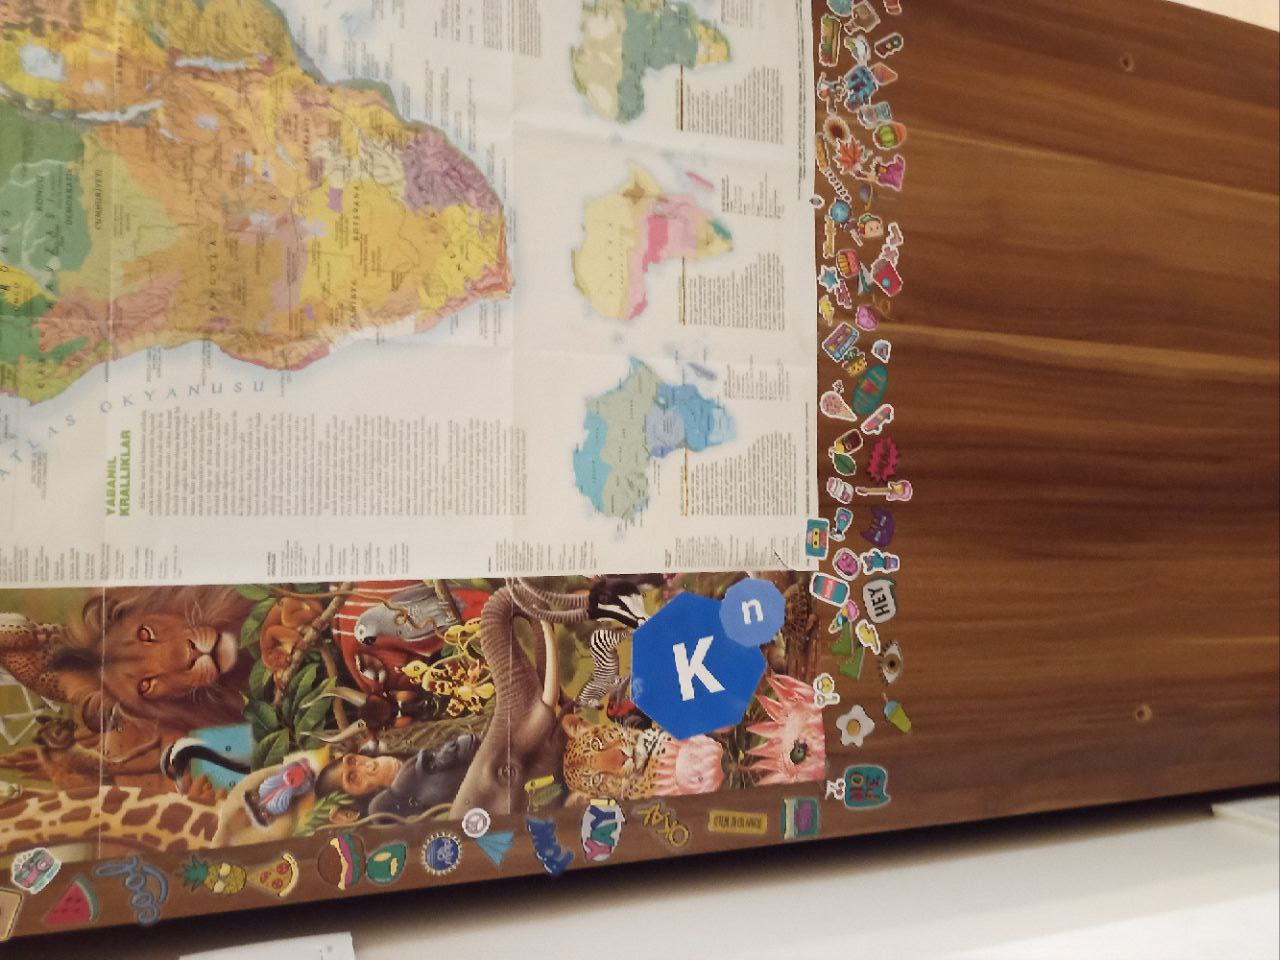knative: (633, 576, 785, 737)
